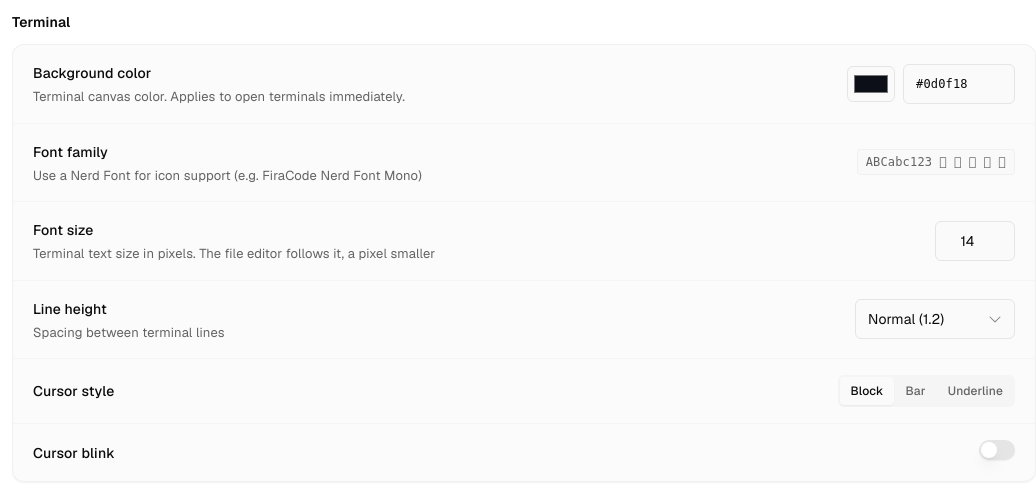
Test case: TerminalAppearanceCard › font size › restores the saved size when the field is left empty
This screenshot has width=1036, height=499.
Clear the number field labelled "Font size" at (975,241), box x1=935 y1=221 x2=1015 y2=261
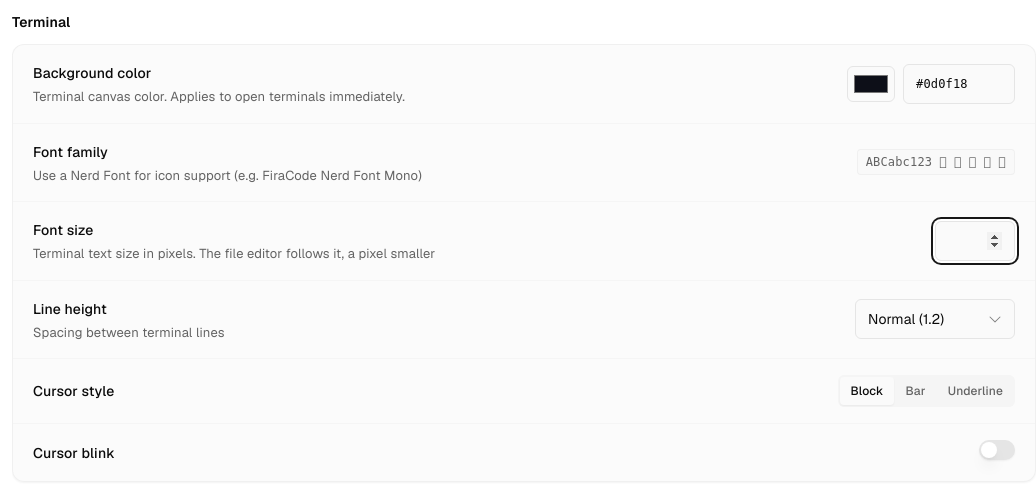
Press Tab
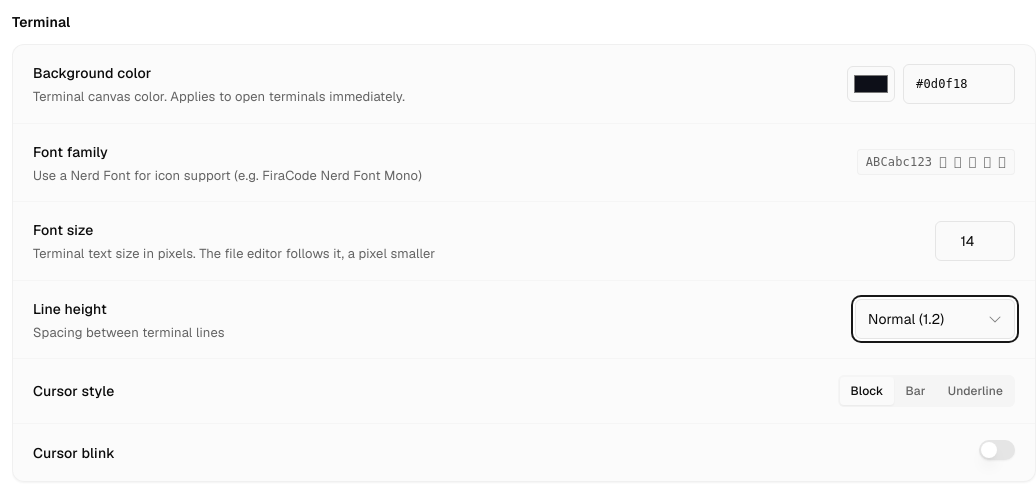
expect the number field labelled "Font size" holds "14": met, box x1=935 y1=221 x2=1015 y2=261
